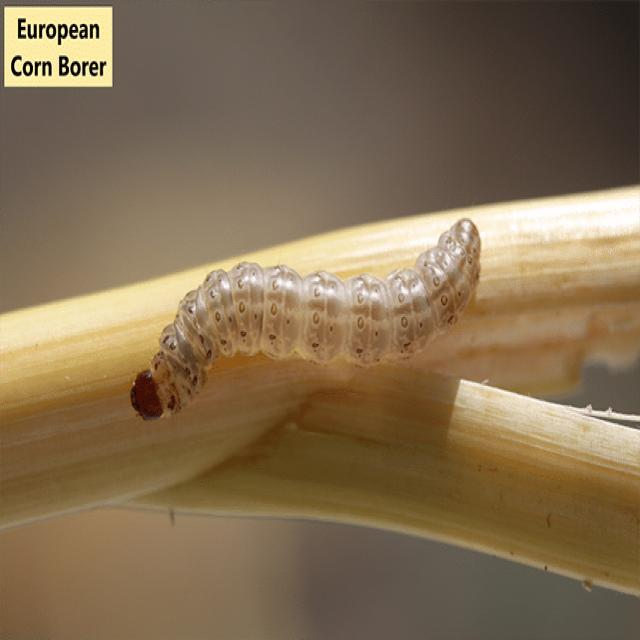cornborer-Larva-: (118, 210, 493, 430)
